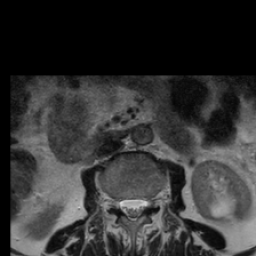CCS_normal: (128, 189, 136, 229)
LFS_normal: (146, 189, 155, 215)
LLS_normal: (136, 189, 146, 221)
RFS_normal: (110, 187, 119, 217)
RLS_normal: (119, 191, 128, 223)
